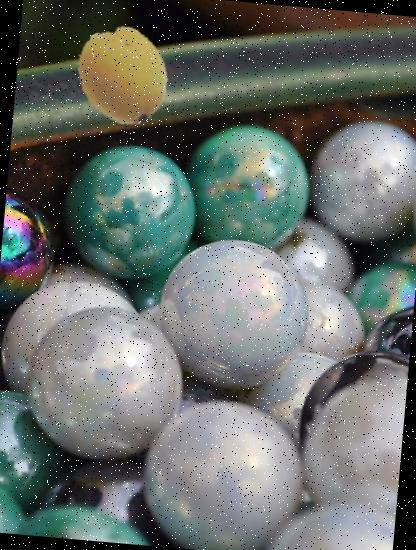Peach: (69, 22, 177, 130)
